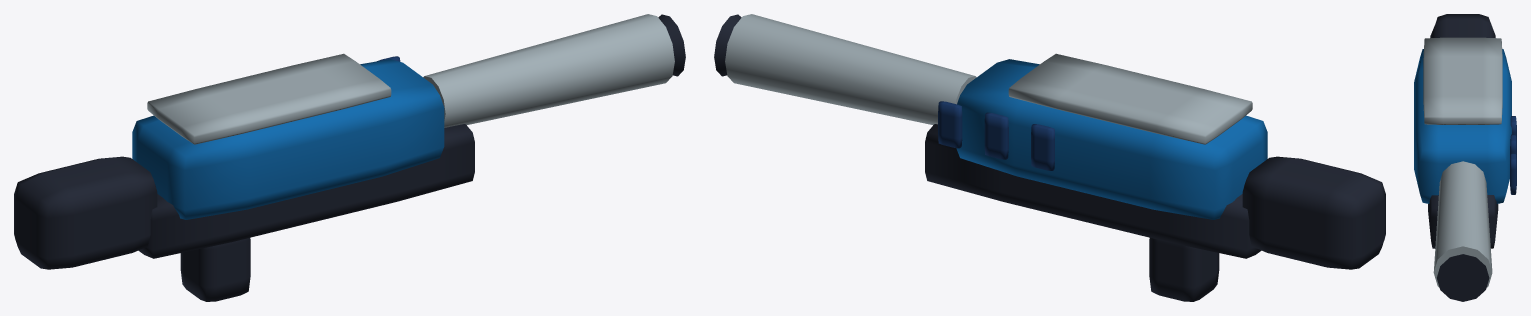
The model's file is pulse-rifle.glb.
3 views of the same model, side by side, from view 1: azimuth 30°, elevation 25°; view 2: azimuth 150°, elevation 25°; view 3: azimuth 270°, elevation 25° (orthographic). The views are drawn at different scales.
Parts seen in each view (by area): view 1: body; view 2: body; view 3: body.
Boxes of the visible parts, x1,y1,x2,y2 form: body: (14,14,685,301); body: (714,14,1385,301); body: (1414,14,1516,301).
Bounding box in the file's own units: 2.04 × 0.562 × 0.343.
